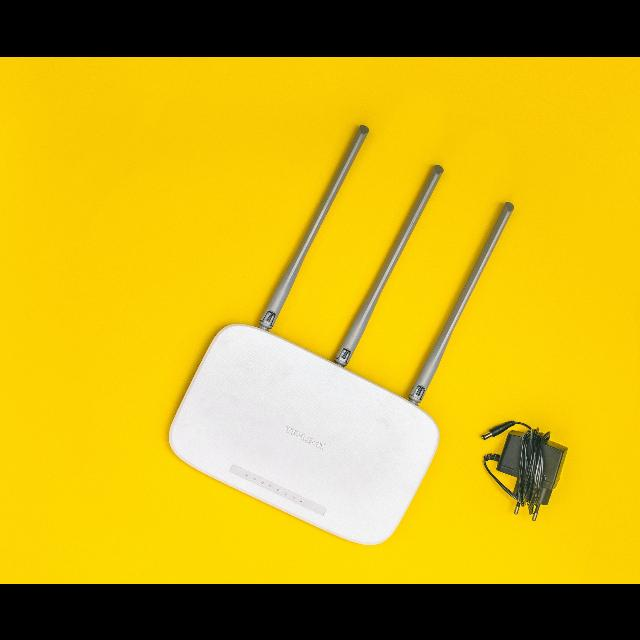Router: (168, 124, 517, 547)
